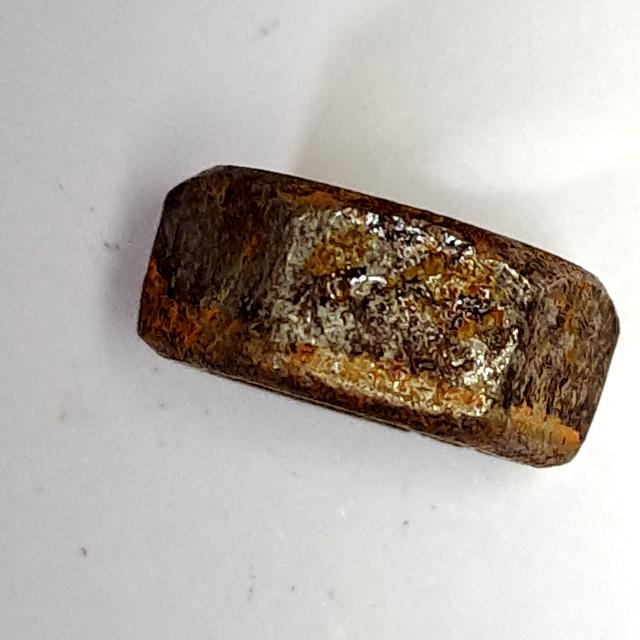Side_Rust: (106, 151, 631, 489)
